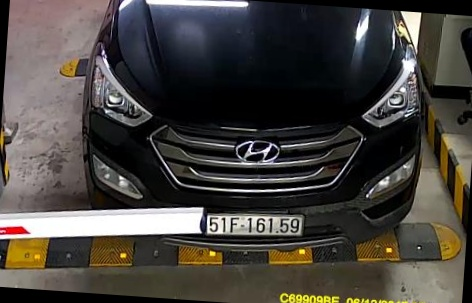plate: (202, 208, 306, 246)
